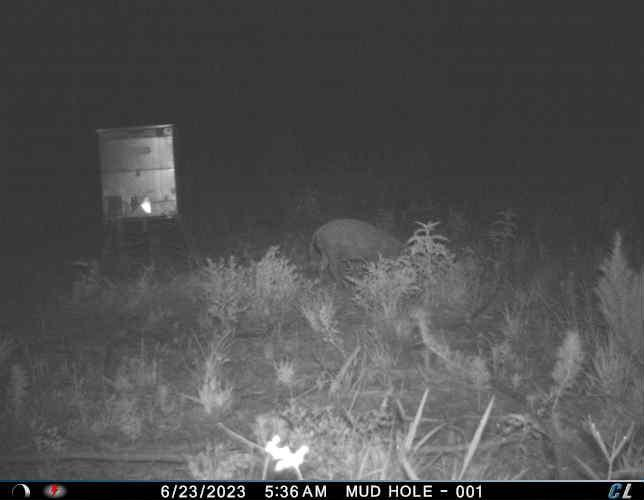Hog: (306, 215, 414, 285)
